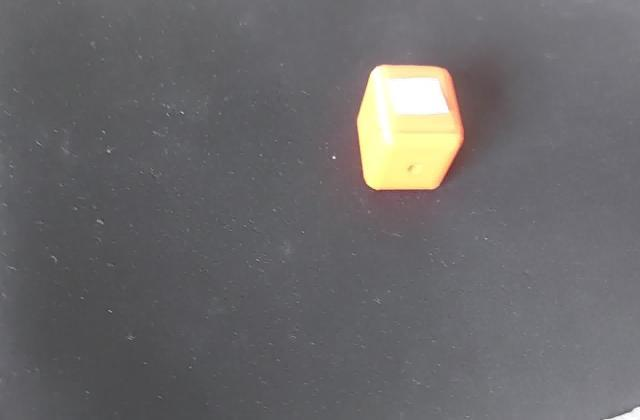cube: (348, 56, 471, 196)
white: (378, 73, 448, 121)
